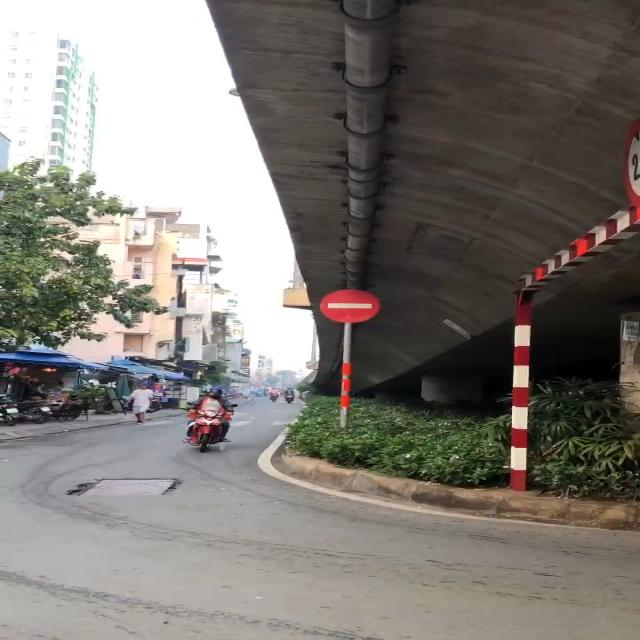Bien bao cam di nguoc chieu: (314, 286, 385, 326)
